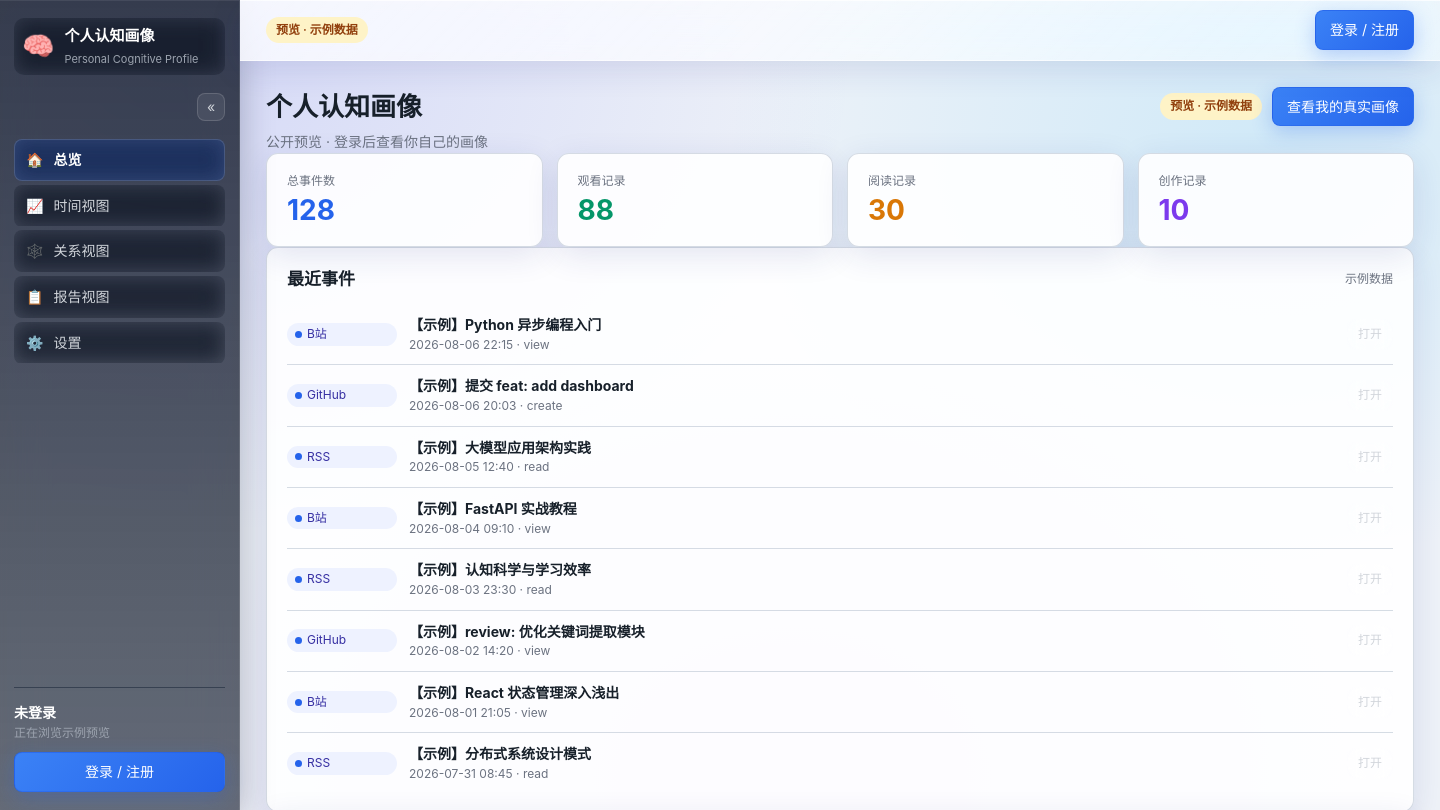
登录 / 注册 › 注册 tab 提交后提示等待管理员审核
The width and height of the screenshot is (1440, 810).
Click the button "登录 / 注册" below "正在浏览示例预览".
click(120, 772)  # box [14, 752, 225, 792]
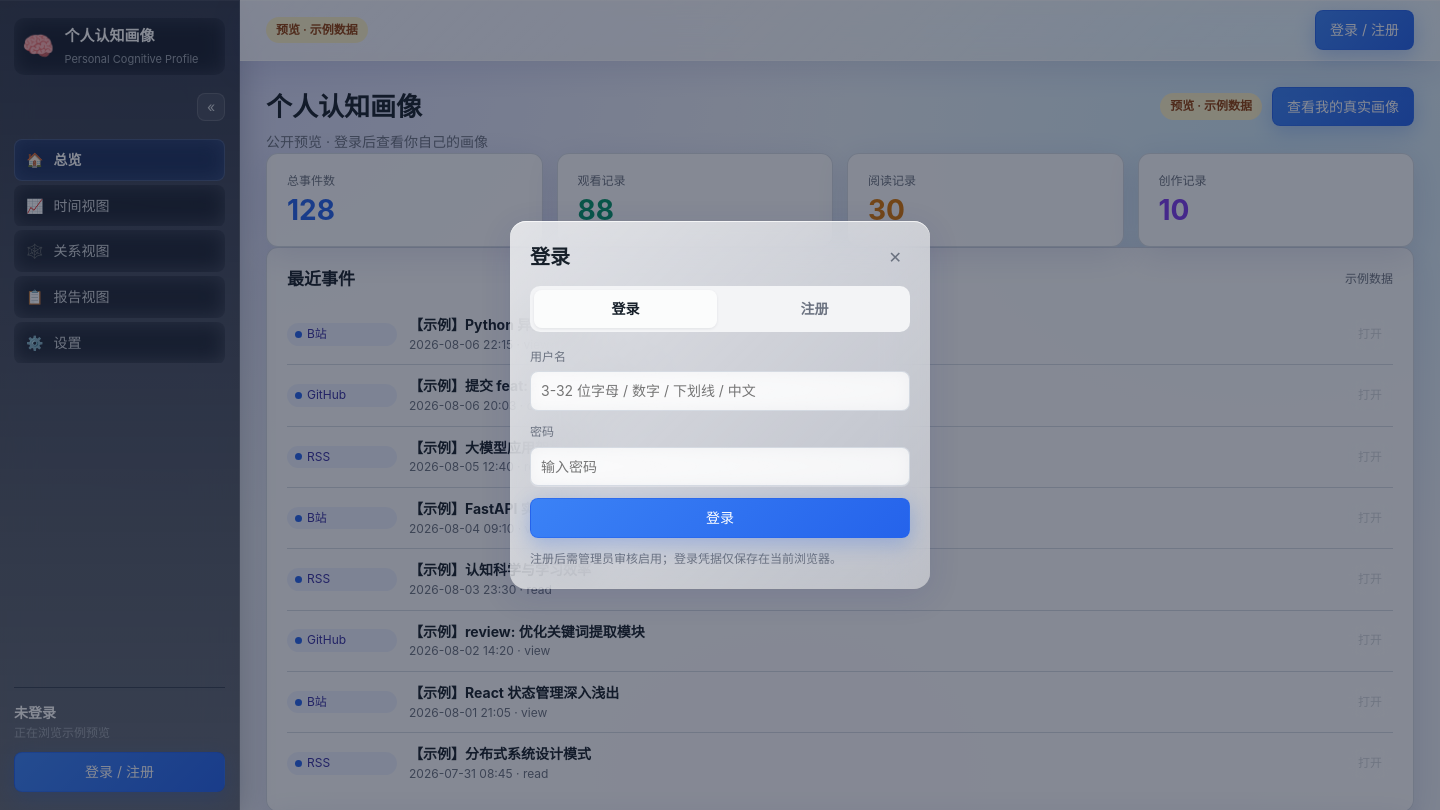
Click the tab "注册".
click(814, 309)  # box [723, 290, 906, 328]
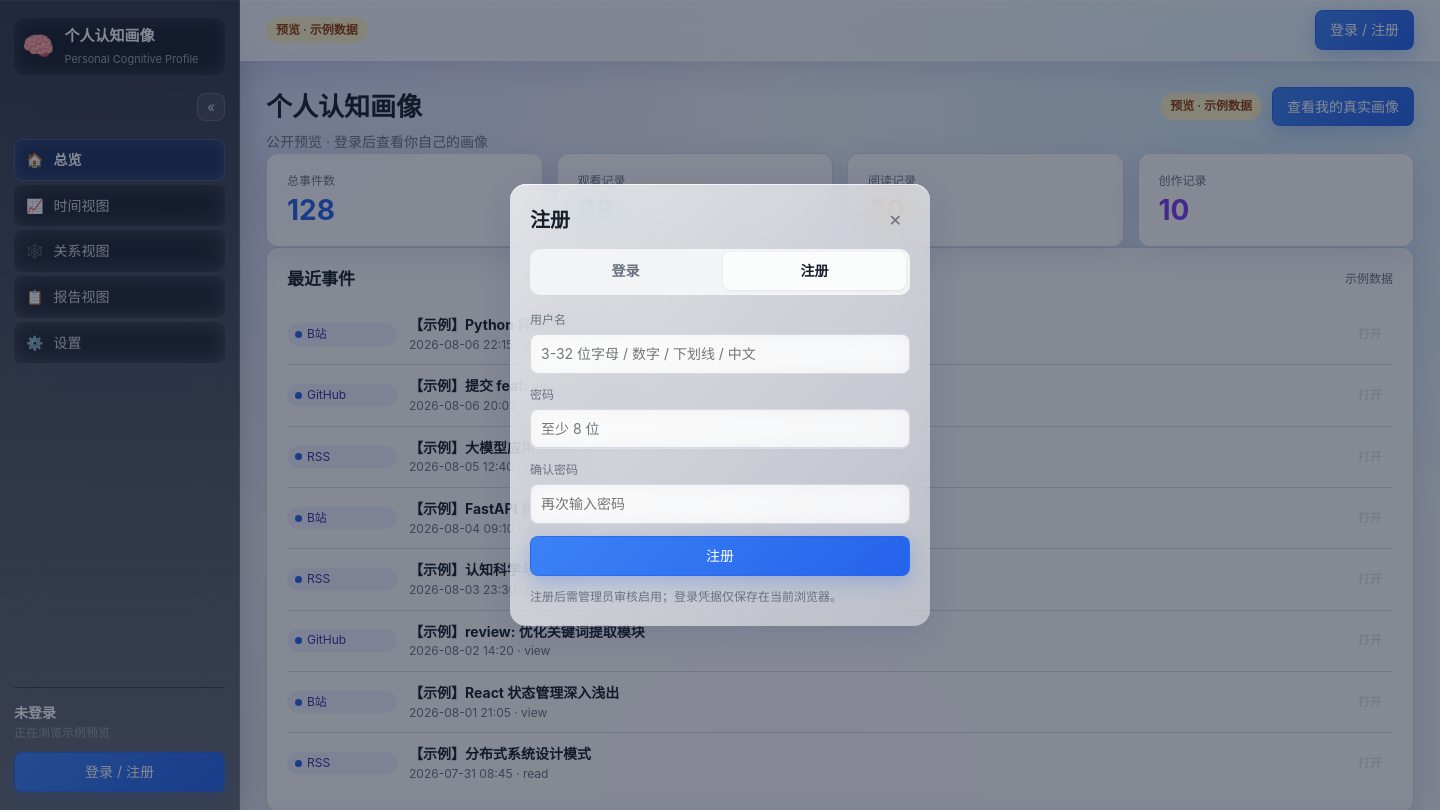
Type "bob" into the field labelled "用户名".
click(720, 354); type("bob")  # box [530, 334, 910, 374]
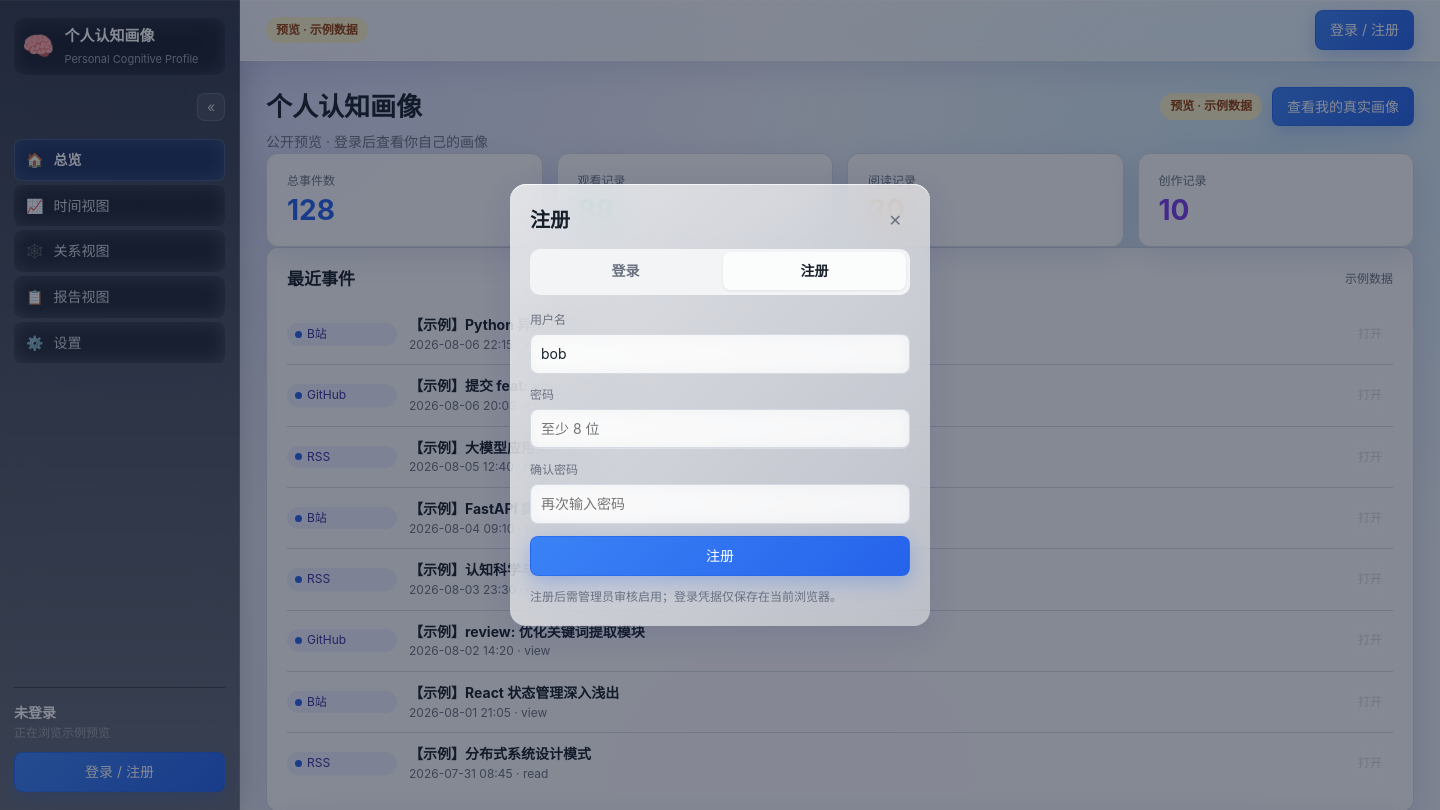
Type "bob-pass-123" into the password field labelled "密码".
click(720, 429); type("bob-pass-123")  # box [530, 409, 910, 449]
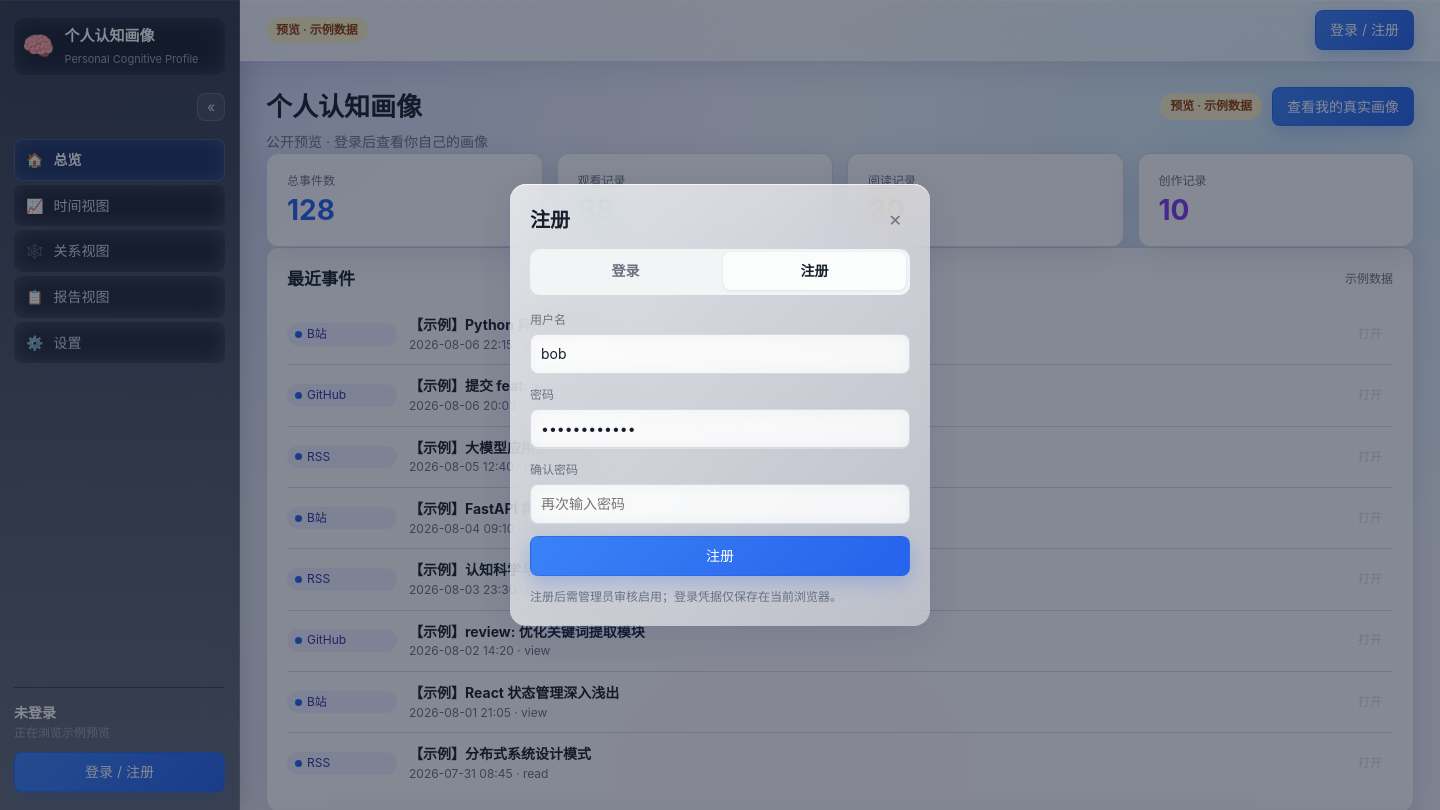
Type "bob-pass-123" into the password field labelled "确认密码".
click(720, 504); type("bob-pass-123")  # box [530, 484, 910, 524]
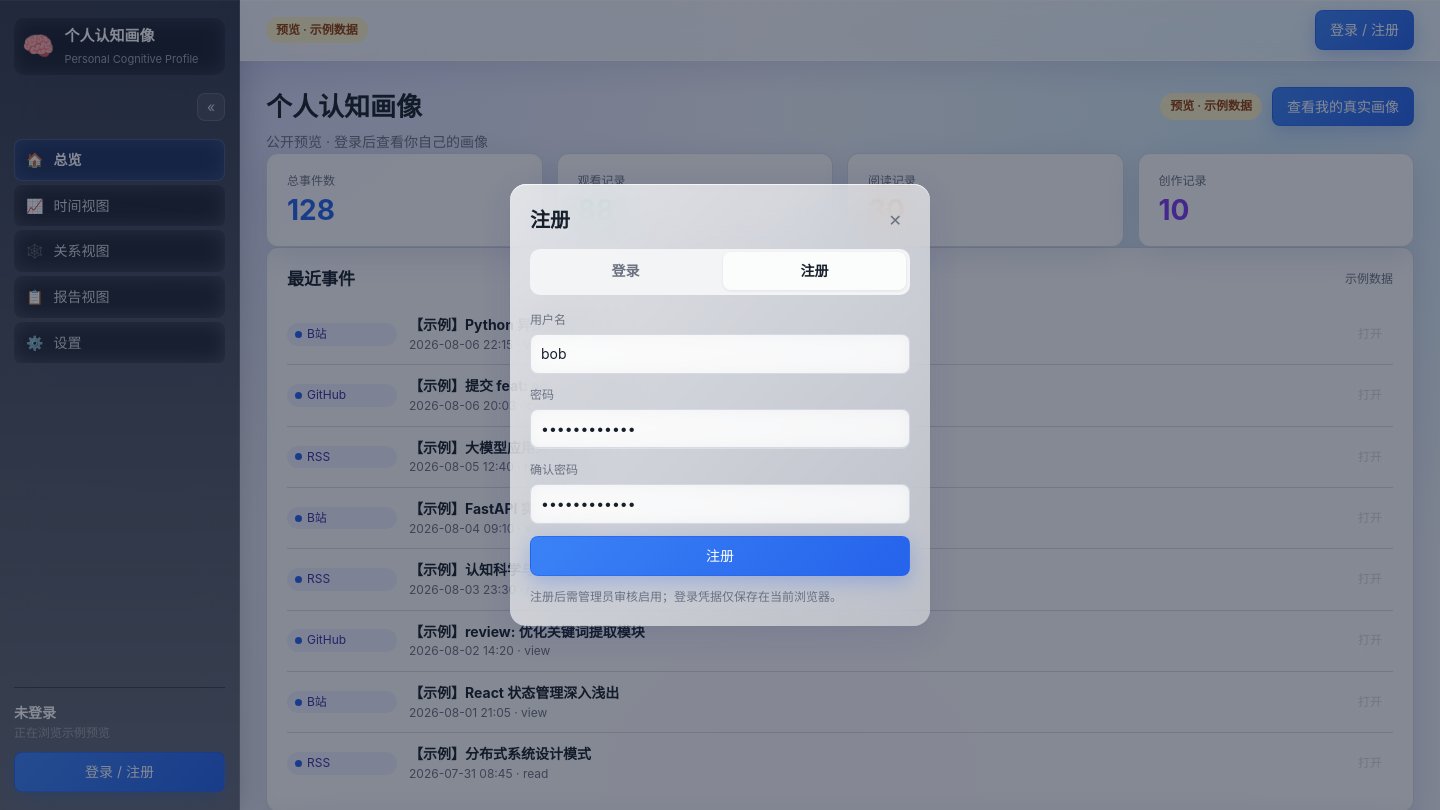
Click the button with test id "auth-submit".
click(720, 556)  # box [530, 536, 910, 576]
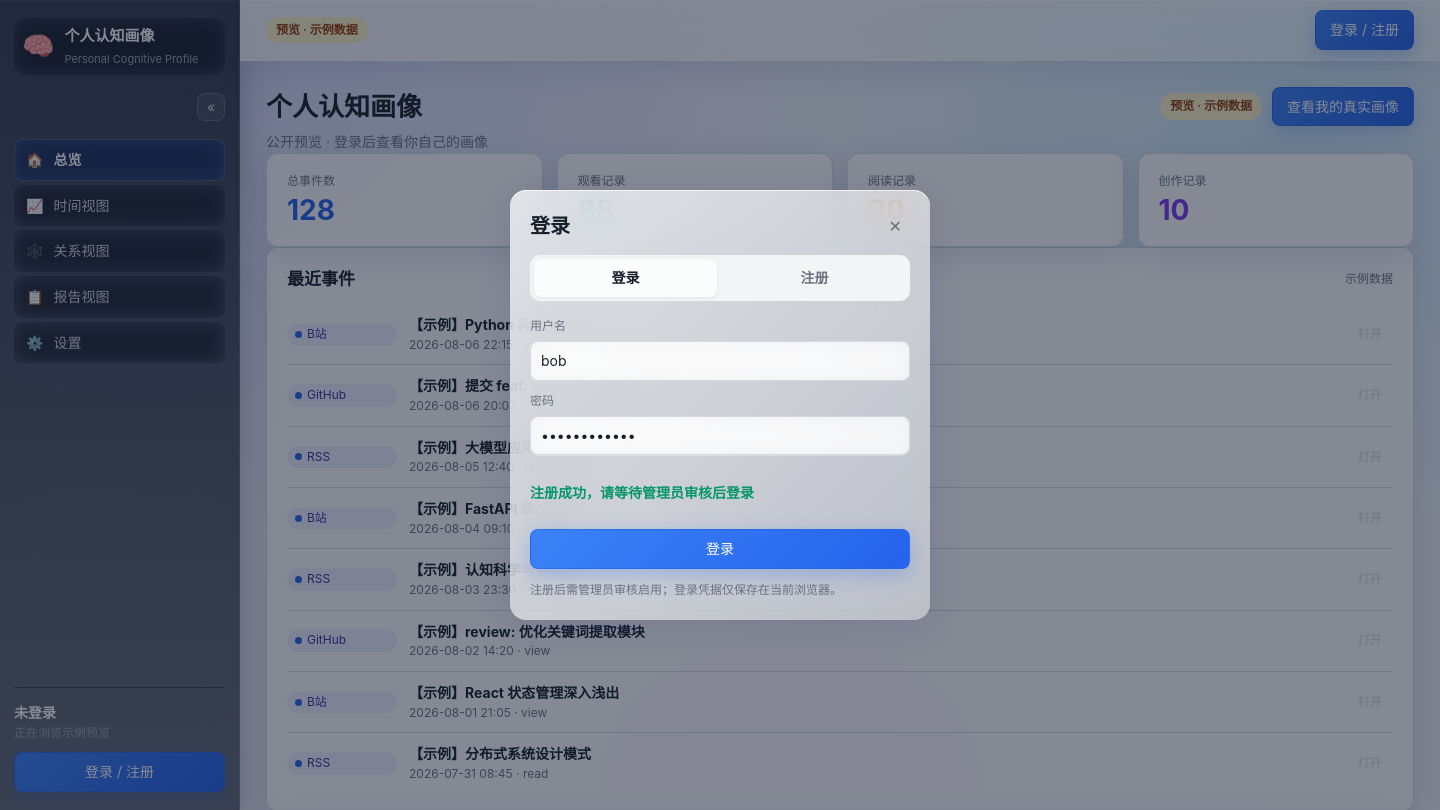
Expected: the dialog is shown, [510, 190, 930, 620]
Expected: the text "注册成功，请等待管理员审核后登录" is shown, [530, 484, 754, 500]
